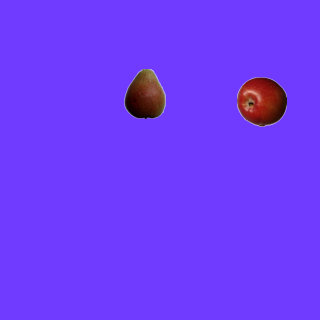Apple Braeburn: (236, 76, 286, 126)
Pear Forelle: (119, 68, 169, 118)
